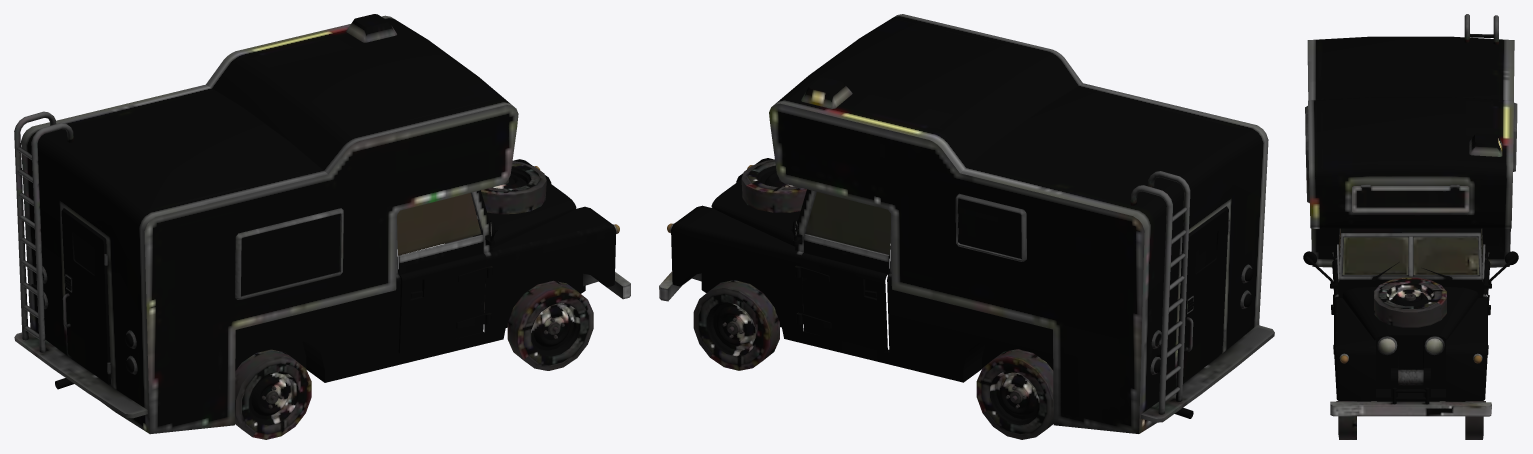
The picture shows the model from 3 angles, left to right: view 1: azimuth 30°, elevation 25°; view 2: azimuth 150°, elevation 25°; view 3: azimuth 270°, elevation 25°; orthographic projection. The views are drawn at different scales.
Visible parts, largest first — view 1: body0_model0_lod0_mesh0; view 2: body0_model0_lod0_mesh0; view 3: body0_model0_lod0_mesh0.
Boxes of the visible parts, left/top/right/bottom form: body0_model0_lod0_mesh0: left=14, top=14, right=630, bottom=439; body0_model0_lod0_mesh0: left=659, top=14, right=1274, bottom=439; body0_model0_lod0_mesh0: left=1303, top=14, right=1518, bottom=439.
Bounding box in the file's own units: 239 × 136 × 103.
Materials: 1 (1 with a texture image).
